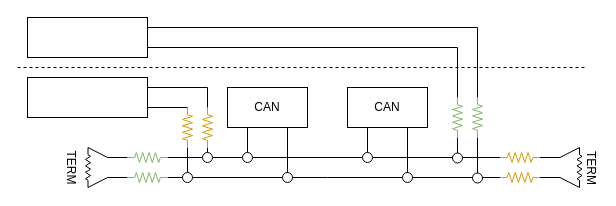
Image size: 616x206. Some labels were removed from this diagram. The centre of each missing label's shape, as x and y in pixels:
"Plug" belongs at (87,37).
"Receptacle" belongs at (87,97).
